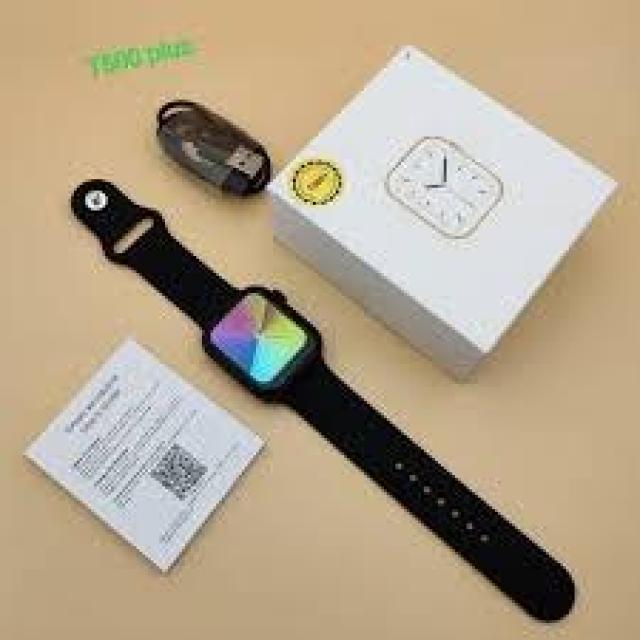watch: (186, 261, 419, 476)
